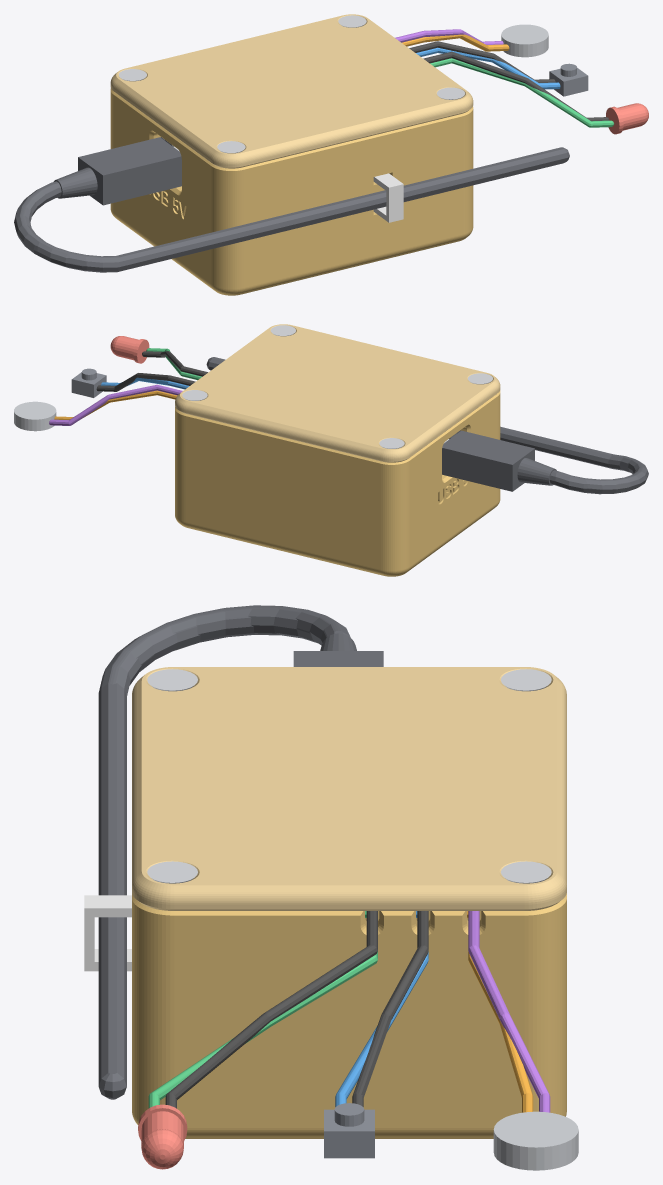
File: assembly-compact-30pin.glb
3 views of the same model, one above another, from view 1: azimuth 30°, elevation 25°; view 2: azimuth 150°, elevation 25°; view 3: azimuth 270°, elevation 25° (orthographic). The views are drawn at different scales.
Visible parts, largest first — view 1: Box body (printed), Lid (printed), USB cable from the power bank, GND (black), Coin vibration motor, 4 x M3x10 countersunk lid screws, LED signal, GPIO 25 (green), Cable tie (strain relief), LED, Paw push button, Paw button, GPIO 27 (blue), Motor +, after R3 (orange) (+1 smaller); view 2: Box body (printed), Lid (printed), USB cable from the power bank, Coin vibration motor, GND (black), 4 x M3x10 countersunk lid screws, Motor -, to collector (purple), LED, Paw push button, Motor +, after R3 (orange); view 3: Lid (printed), Box body (printed), USB cable from the power bank, GND (black), Coin vibration motor, 4 x M3x10 countersunk lid screws, Paw push button, LED, Motor -, to collector (purple), Cable tie (strain relief), LED signal, GPIO 25 (green), Motor +, after R3 (orange) (+1 smaller).
Boxes of the visible parts, x1,y1,x2,y2 form: Box body (printed): (110, 88, 473, 295); Lid (printed): (110, 14, 473, 168); USB cable from the power bank: (14, 137, 569, 272); GND (black): (409, 41, 609, 121); Coin vibration motor: (501, 24, 548, 57); 4 x M3x10 countersunk lid screws: (119, 15, 464, 153); LED signal, GPIO 25 (green): (430, 58, 613, 127); Cable tie (strain relief): (373, 173, 403, 222); LED: (606, 103, 648, 134); Paw push button: (549, 63, 588, 96); Paw button, GPIO 27 (blue): (416, 47, 560, 89); Motor +, after R3 (orange): (402, 34, 509, 51); Box body (printed): (175, 390, 500, 576); Lid (printed): (175, 324, 500, 462); USB cable from the power bank: (206, 357, 648, 494); Coin vibration motor: (14, 401, 56, 431); GND (black): (96, 351, 207, 391); 4 x M3x10 countersunk lid screws: (182, 325, 492, 448); Motor -, to collector (purple): (49, 384, 182, 425); LED: (110, 336, 149, 363); Paw push button: (71, 368, 106, 397); Motor +, after R3 (orange): (54, 390, 177, 419); Lid (printed): (132, 667, 566, 910); Box body (printed): (132, 893, 566, 1138); USB cable from the power bank: (98, 605, 383, 1099); GND (black): (165, 911, 428, 1108); Coin vibration motor: (493, 1111, 578, 1170); 4 x M3x10 countersunk lid screws: (147, 669, 551, 883); Paw push button: (324, 1103, 374, 1158); LED: (138, 1104, 187, 1169); Motor -, to collector (purple): (468, 911, 550, 1112); Cable tie (strain relief): (84, 895, 131, 971); LED signal, GPIO 25 (green): (148, 911, 377, 1108); Motor +, after R3 (orange): (467, 911, 533, 1112).
Size of the model in its own units: 0.1486 by 0.033 by 0.0582.
